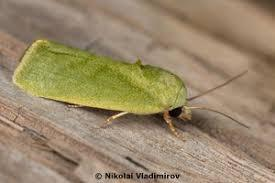insect: (10, 36, 255, 143)
